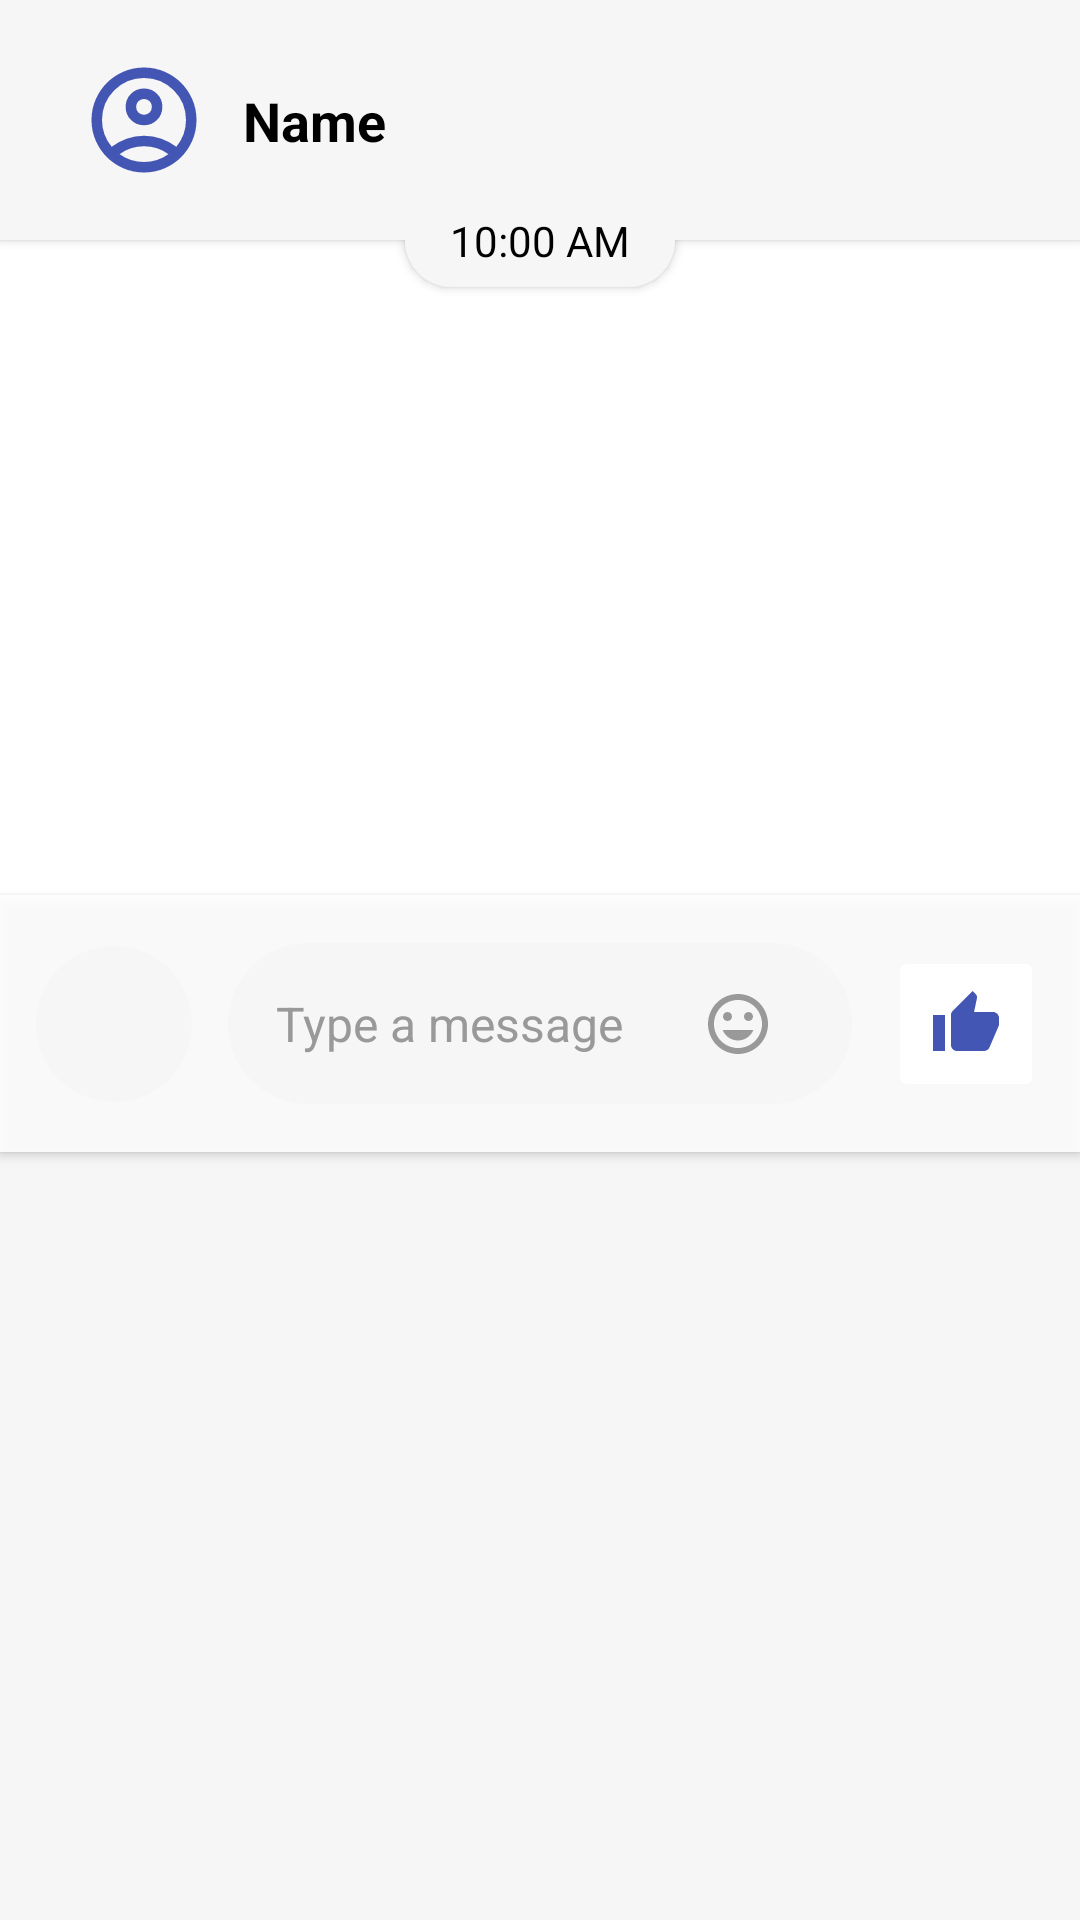

Named icons in this screenshot (1080x1920) and their centers, point (x, y):
emoji: point (738, 1024)
like: point (966, 1021)
profile: point (144, 120)
